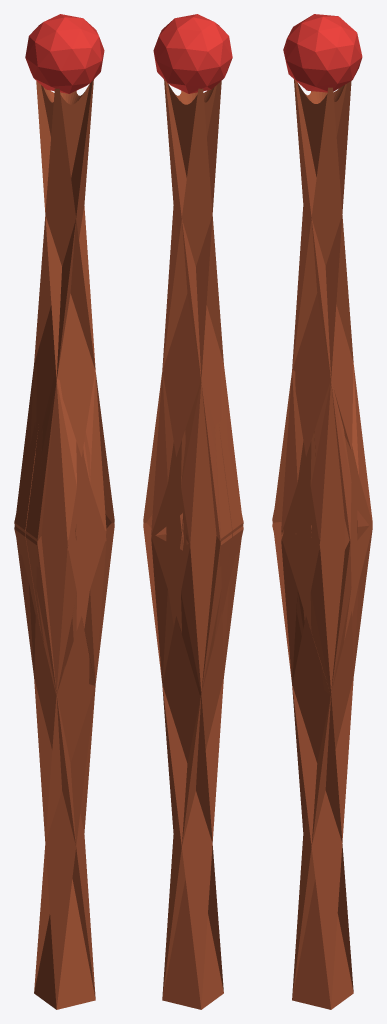
The model's file is FireStaff.fbx.
3 renders of one model, left to right at view 1: azimuth 30°, elevation 25°; view 2: azimuth 150°, elevation 25°; view 3: azimuth 330°, elevation 25°, orthographic.
Parts seen in each view (by area): view 1: Cube, Icosphere; view 2: Cube, Icosphere; view 3: Cube, Icosphere.
Boxes of the visible parts, left/top/right/bottom form: Cube: left=14, top=80, right=114, bottom=1009; Icosphere: left=25, top=14, right=104, bottom=93; Cube: left=143, top=80, right=243, bottom=1009; Icosphere: left=153, top=14, right=232, bottom=93; Cube: left=272, top=79, right=372, bottom=1009; Icosphere: left=283, top=14, right=362, bottom=92.
Bounding box in the file's own units: 133 × 1601 × 131.
